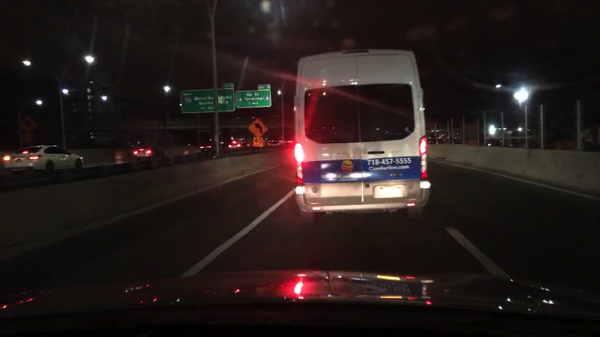car: (295, 47, 430, 221), (3, 143, 84, 176), (134, 144, 168, 160), (228, 137, 250, 150), (199, 142, 215, 153), (425, 130, 435, 143), (269, 139, 283, 147), (438, 133, 446, 143), (453, 134, 462, 142), (446, 134, 453, 142), (287, 140, 294, 145)
traffic sign: (179, 89, 234, 112), (236, 90, 271, 107), (246, 116, 266, 136), (18, 116, 37, 132), (252, 137, 264, 147), (22, 133, 34, 142), (258, 84, 271, 90), (221, 83, 233, 88)
